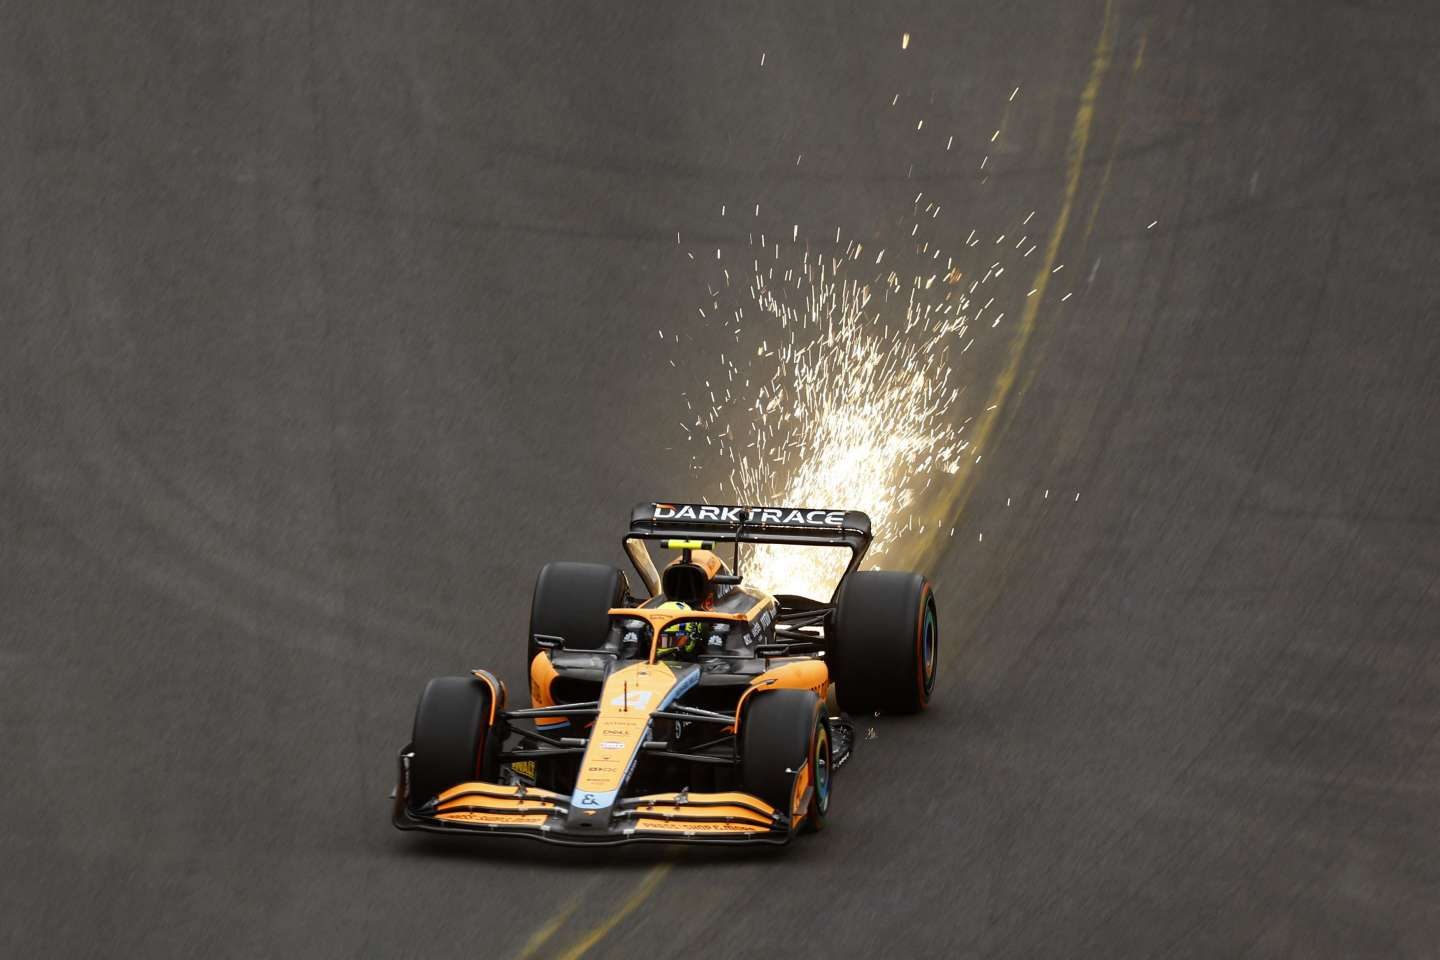Formule 1: (397, 506, 940, 849)
